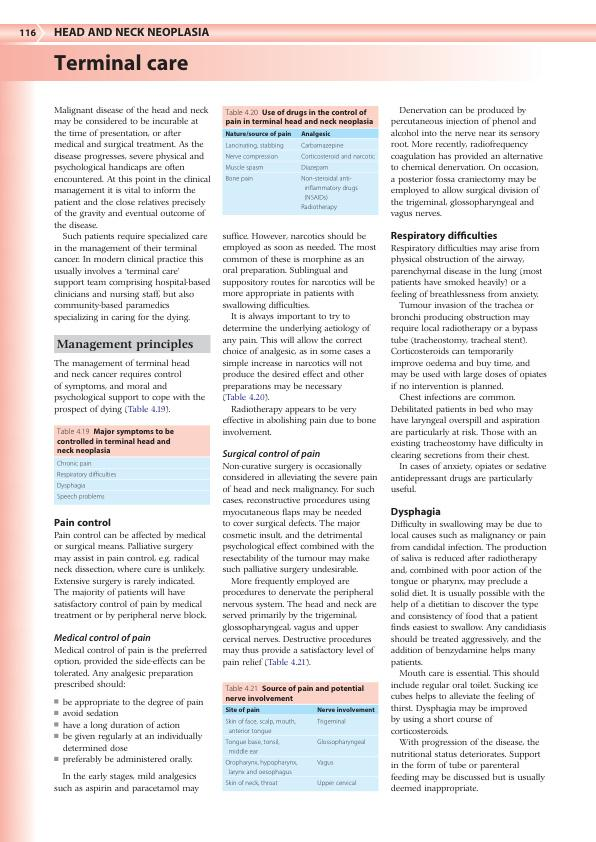caption: (56, 427, 176, 456), (224, 108, 374, 127), (224, 684, 366, 702)
chapter-heading: (52, 53, 191, 72)
header: (53, 26, 211, 37)
list: (53, 696, 205, 766)
section-heading: (56, 338, 194, 352)
sub-section-heading: (389, 229, 498, 242), (53, 632, 152, 644), (221, 449, 321, 460), (53, 516, 112, 527), (390, 506, 442, 518)
table: (222, 127, 379, 215), (222, 704, 379, 791), (54, 457, 210, 506)
text: (389, 519, 548, 795), (390, 243, 548, 494), (53, 105, 212, 324), (221, 462, 378, 669), (222, 231, 377, 436), (389, 105, 544, 220), (52, 530, 206, 621), (53, 358, 206, 415), (53, 645, 208, 690), (53, 772, 200, 795)
